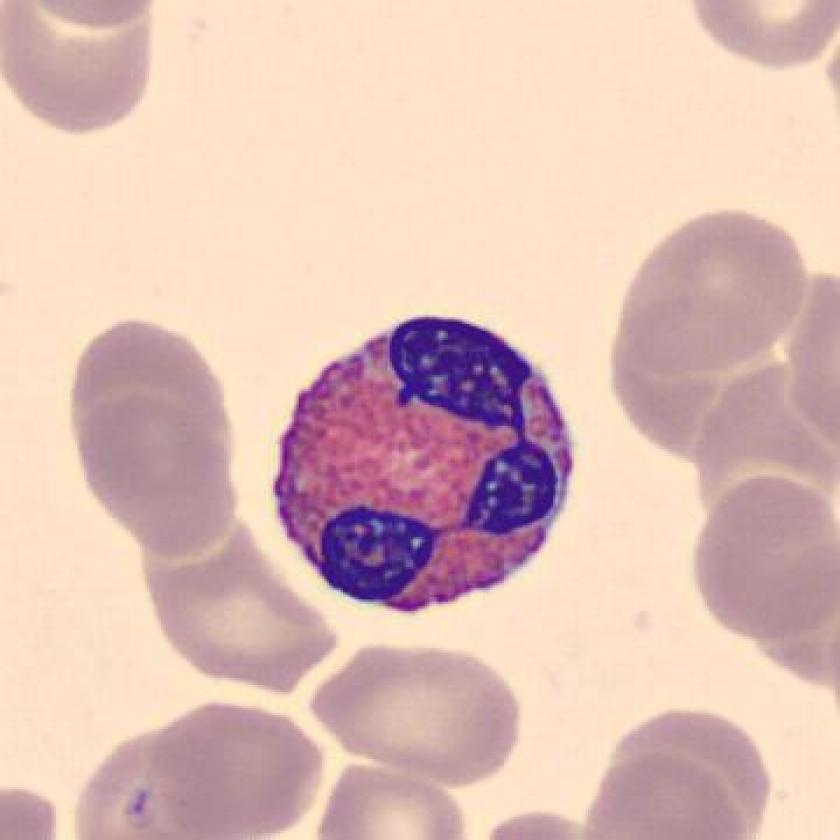eosinophil: (260, 307, 584, 635)
